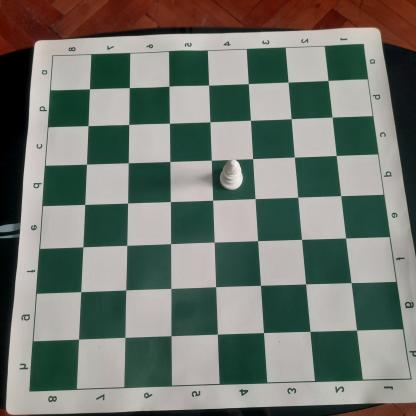white-bishop: (218, 159, 244, 192)
